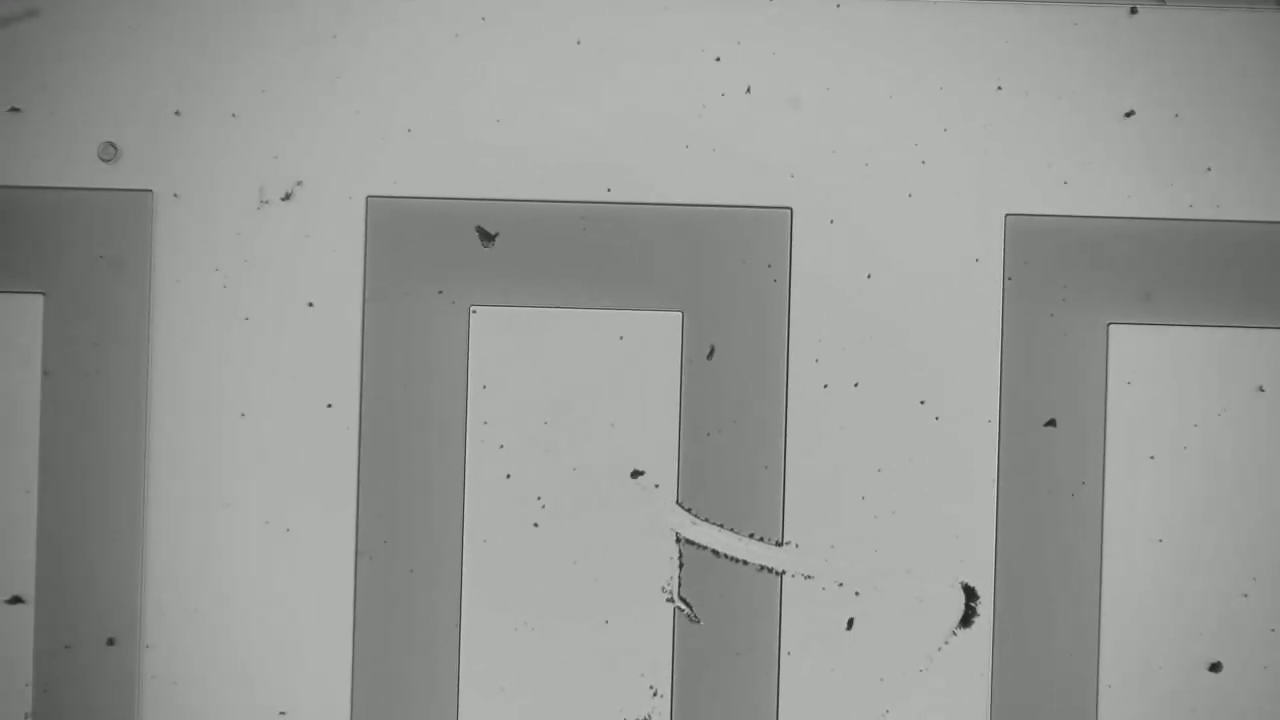Short_circuit: (661, 482, 824, 584)
